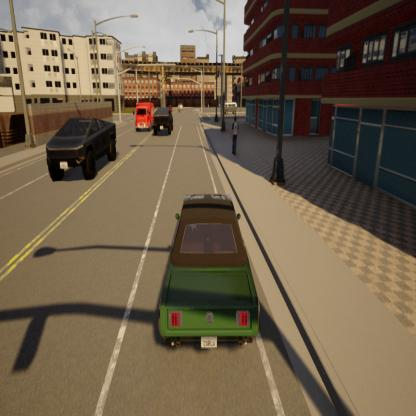Cars: (146, 188, 270, 358), (40, 110, 122, 184), (133, 102, 155, 135), (153, 107, 176, 138), (220, 100, 238, 118)
